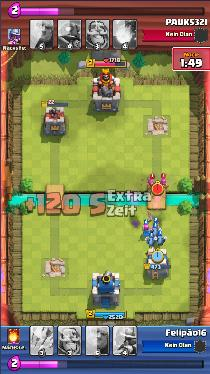ally_archer: (143, 224, 150, 236)
ally_minion: (157, 234, 166, 244), (151, 225, 159, 235), (147, 236, 154, 246)
enemy_archer: (147, 178, 156, 192), (159, 177, 167, 190)
